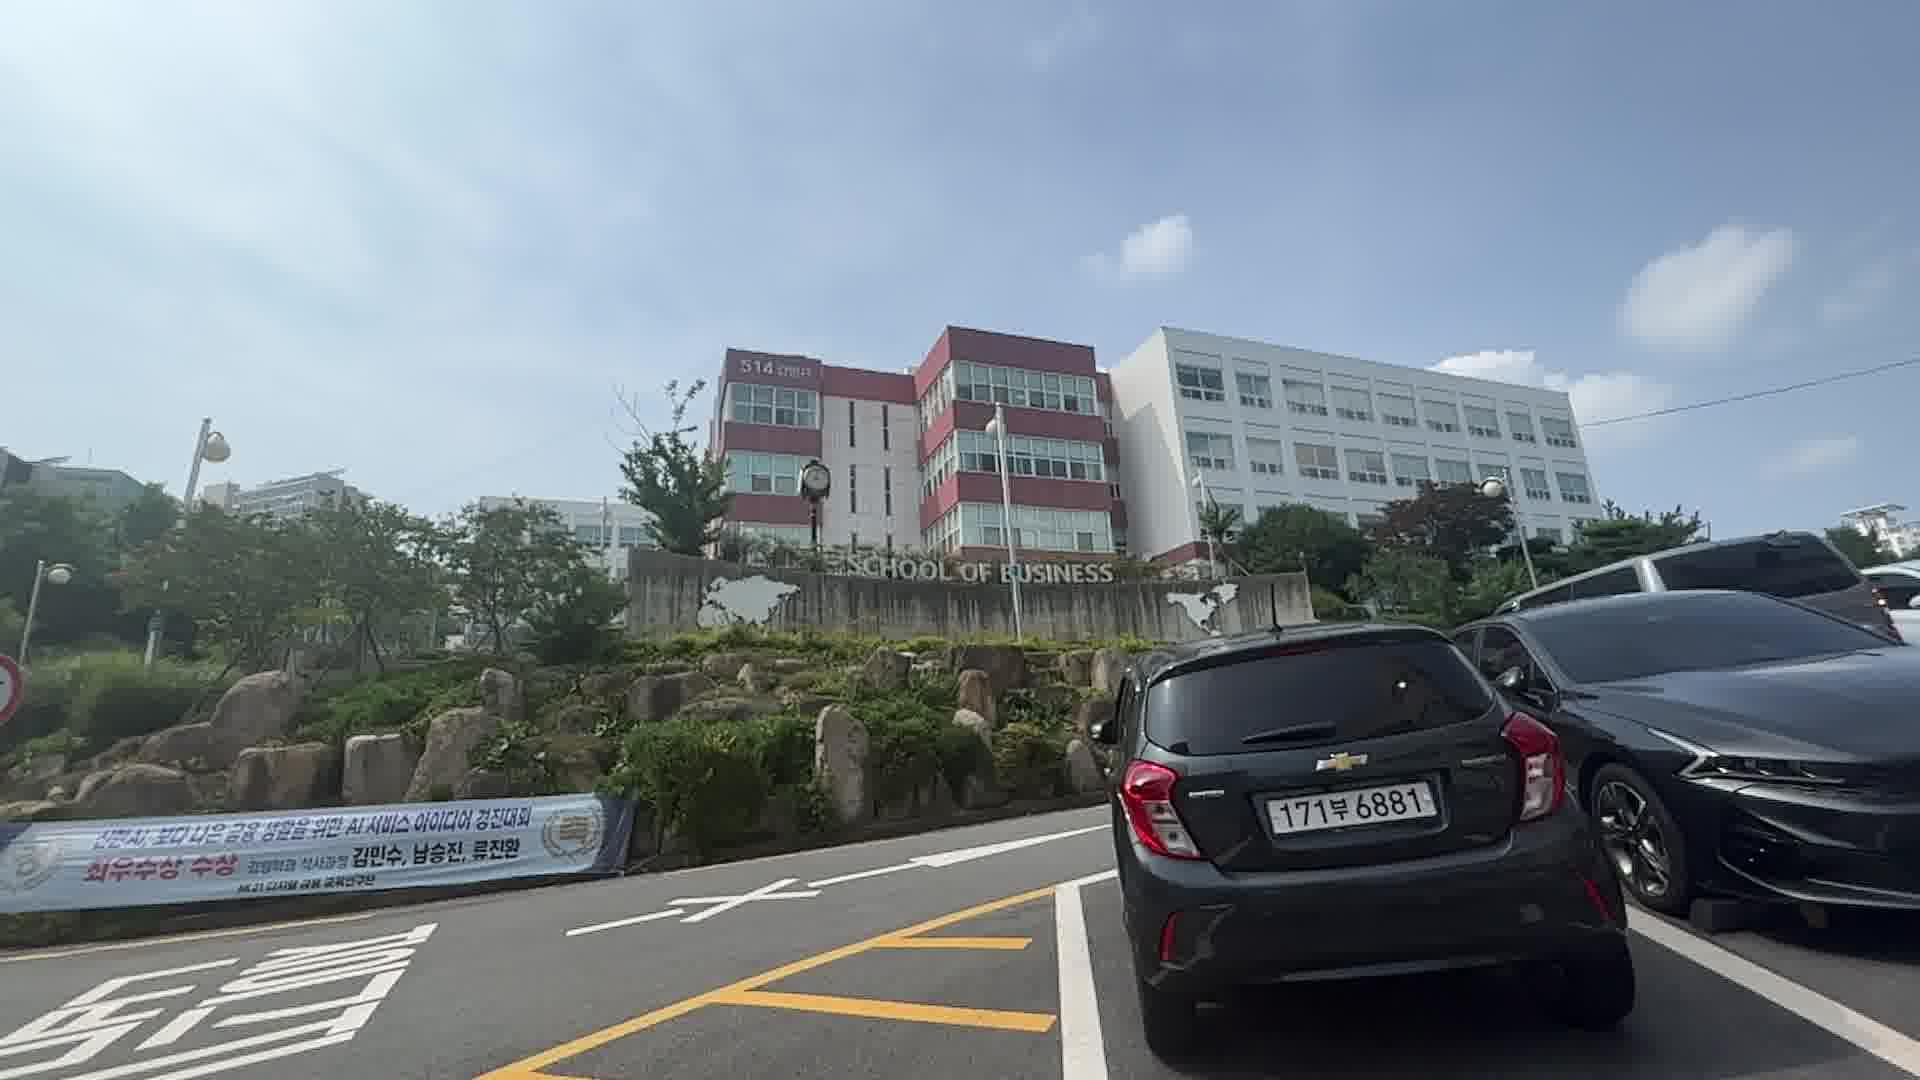building: (687, 311, 1615, 512)
